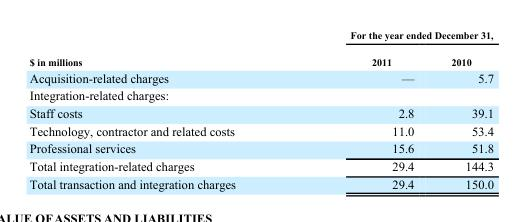table: (28, 28, 492, 190)
table column: (28, 28, 292, 190), (292, 28, 431, 190), (431, 28, 492, 190)
table column header: (28, 28, 492, 68)
table projected row header: (28, 86, 492, 104)
table row: (28, 47, 492, 68), (28, 28, 492, 47), (28, 68, 492, 86), (28, 86, 492, 104), (28, 121, 492, 139), (28, 139, 492, 157), (28, 104, 492, 121), (28, 157, 492, 174), (28, 174, 492, 190)
table spanning cell: (28, 28, 292, 68), (292, 28, 492, 47)
